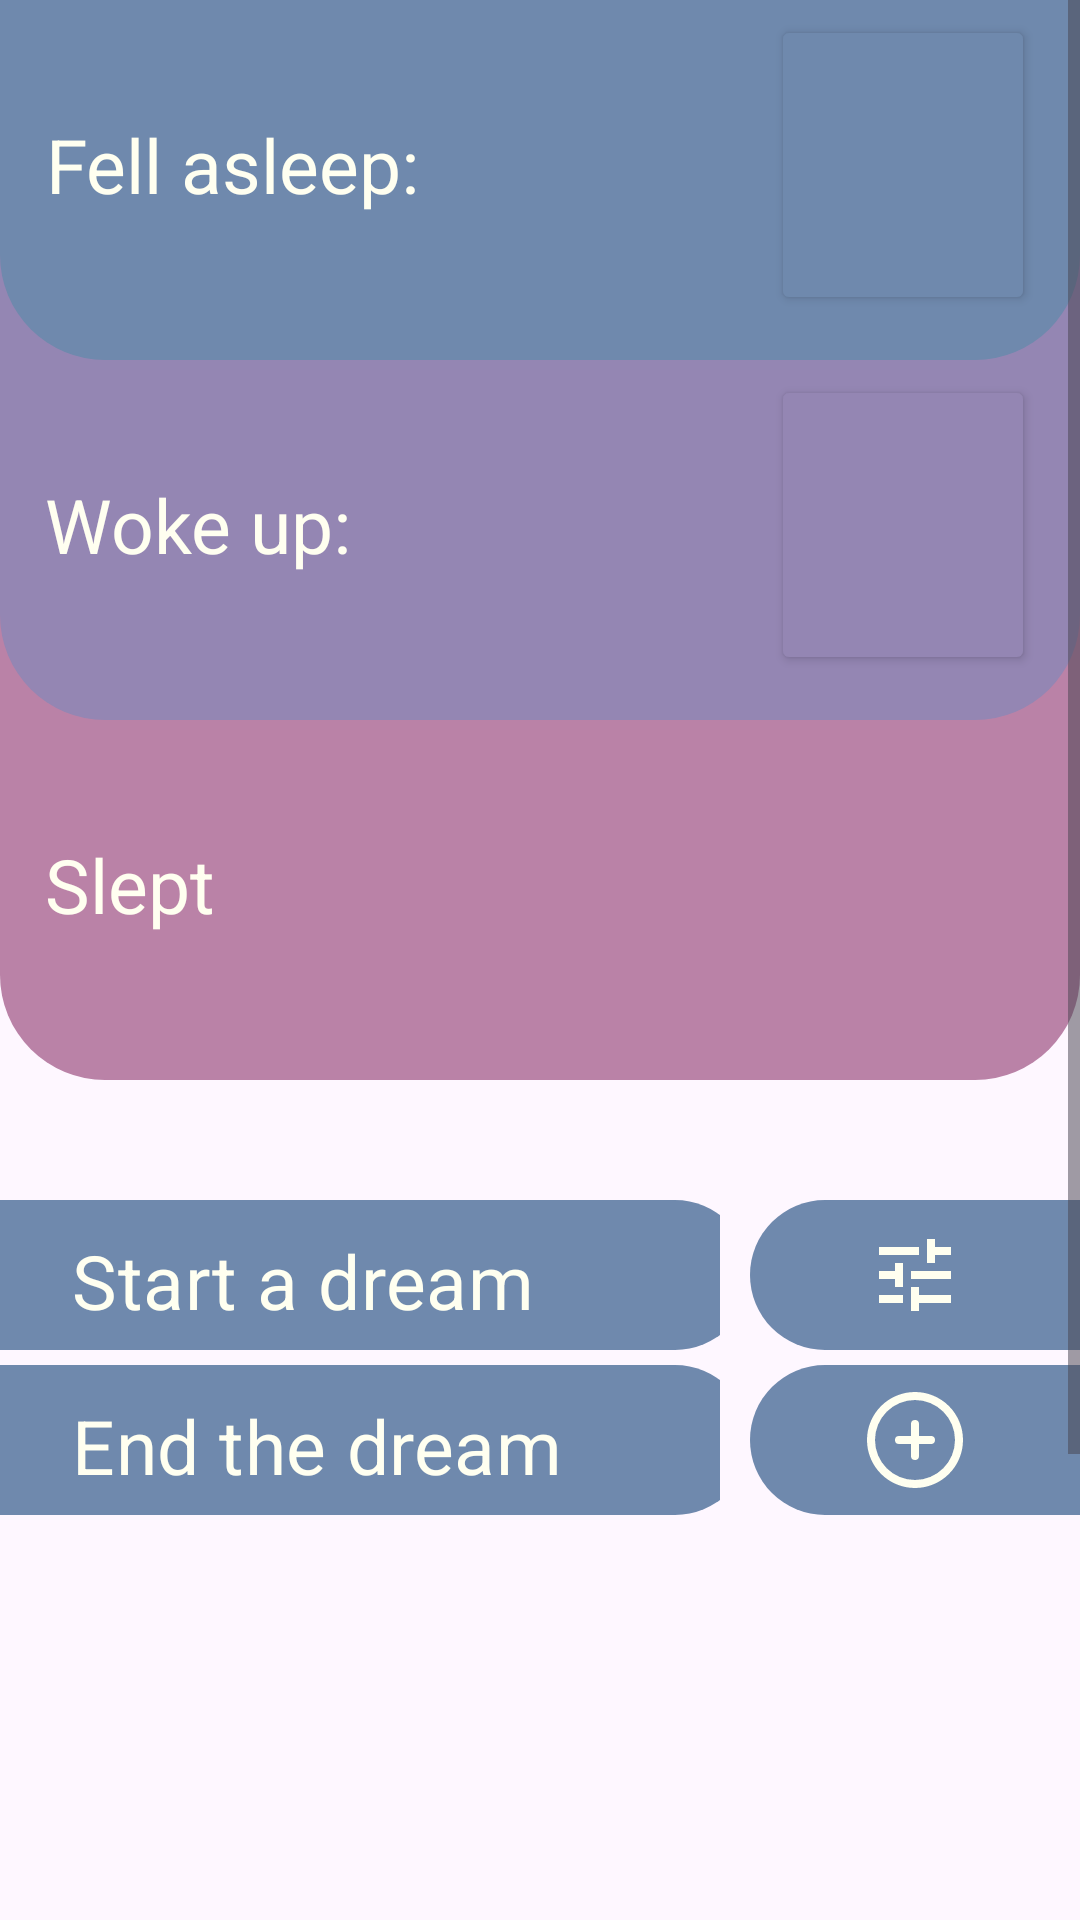

Icons on this 1080*1920 Android screen, each with the point to tap as [x,y]:
add: [915,1440]
settings: [915,1275]
